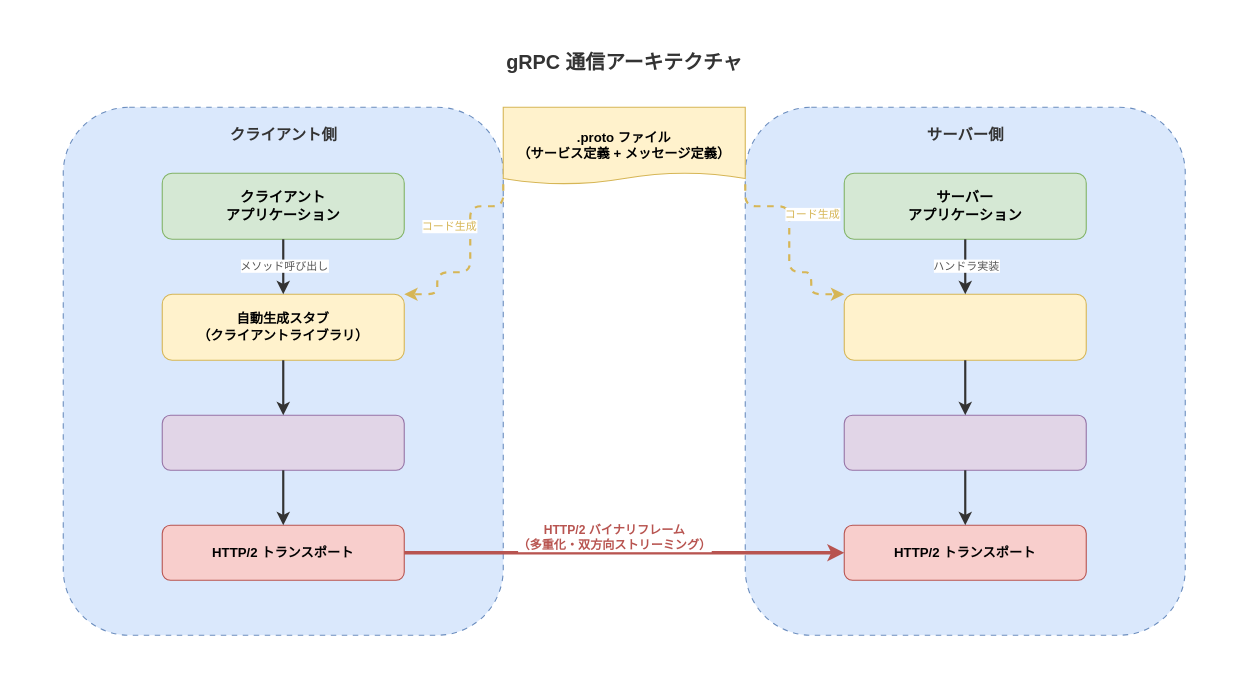
Some shapes in this 1247 by 697 pixel diagram are drawn without their labels. Here are the shapes that lost their labels. From the top down, the centre of each, then its label:
At (964,326): "自動生成スケルトン （サーバーインターフェース）".
At (282,442): "Protocol Buffers シリアライズ".
At (964,442): "Protocol Buffers デシリアライズ".
